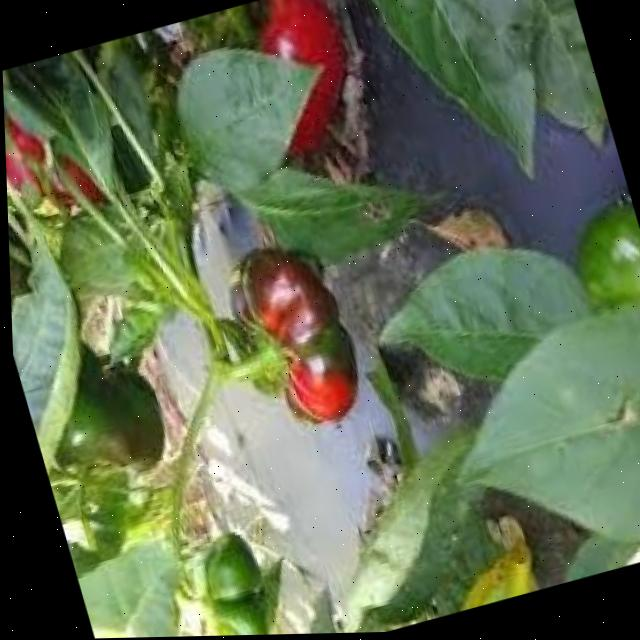Wet: (205, 220, 371, 452)
